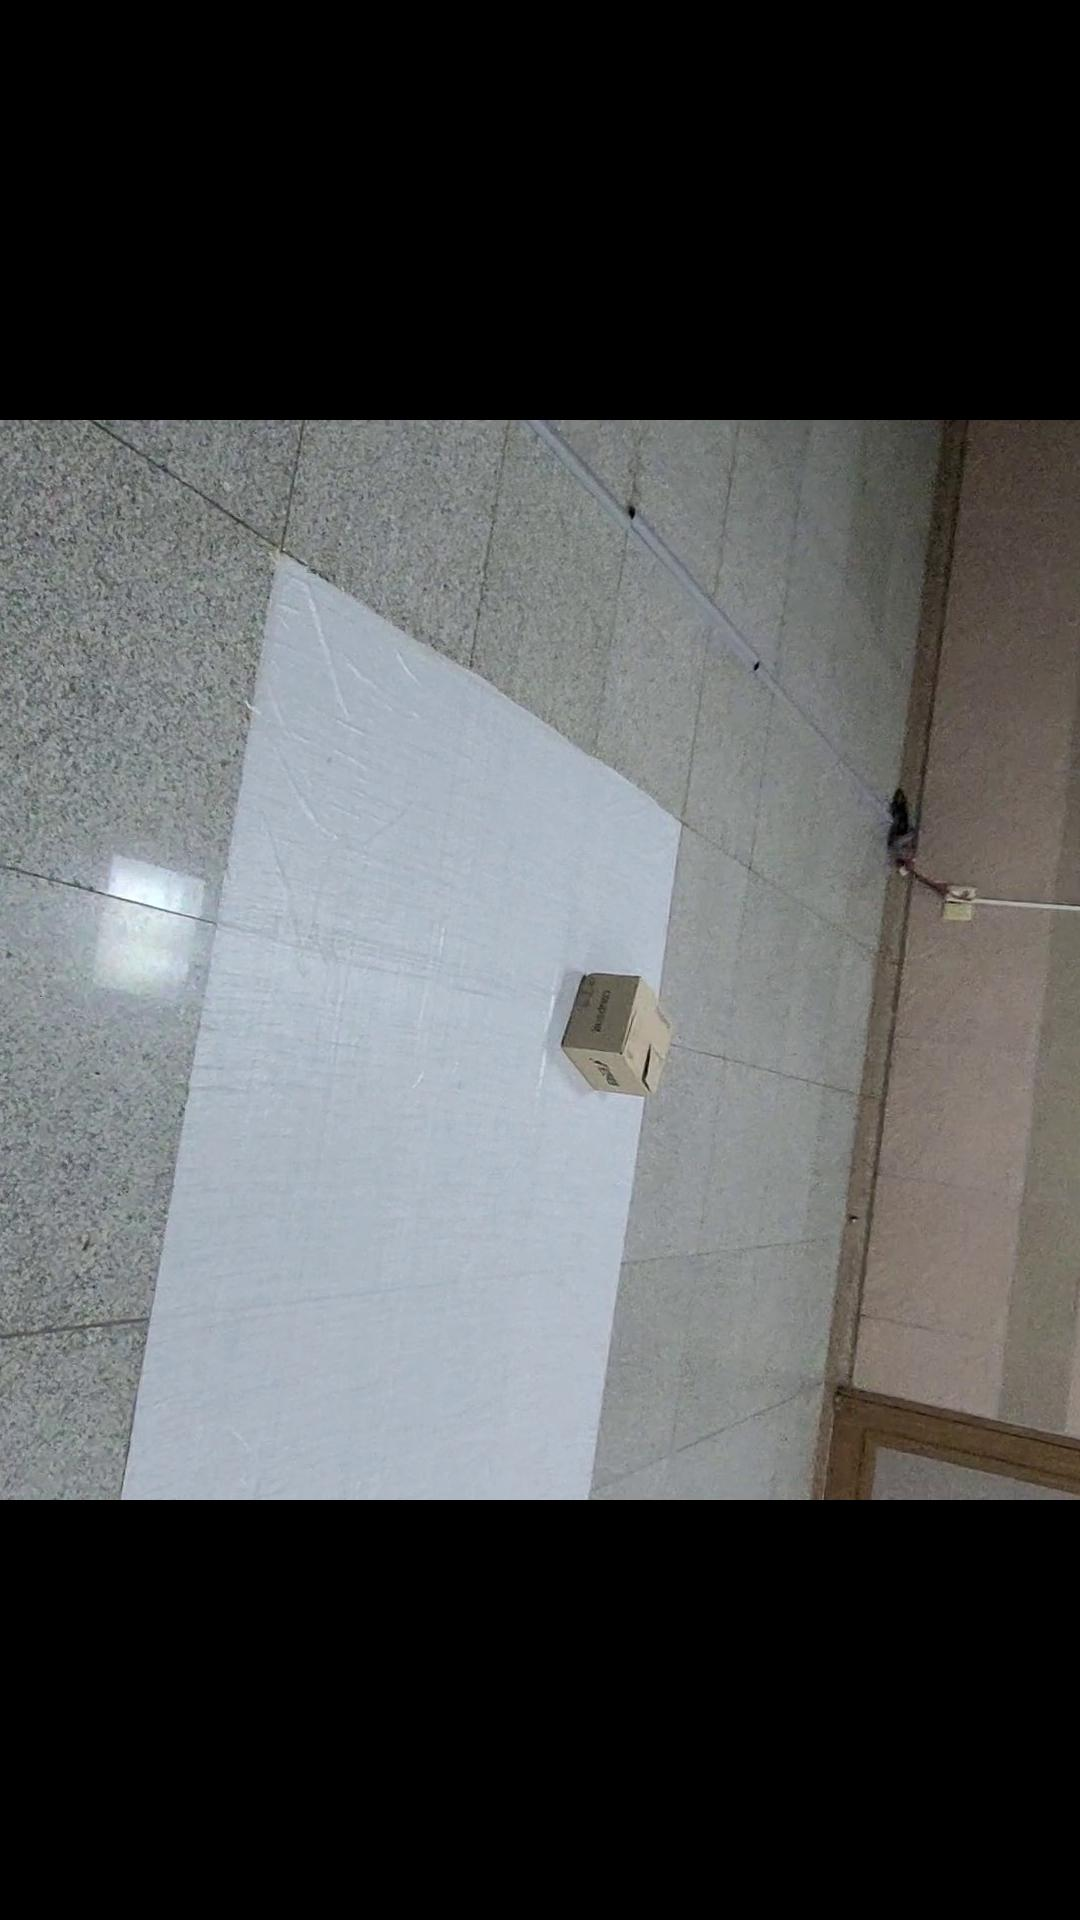Box: (500, 923, 692, 1159)
